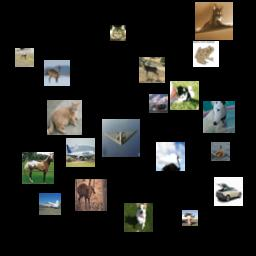airplane: (102, 119, 140, 157), (66, 138, 95, 167), (39, 193, 61, 215), (182, 210, 198, 226)
automobile: (214, 177, 243, 206)
bird: (156, 142, 185, 171), (211, 142, 230, 161)
cat: (195, 2, 233, 40), (47, 100, 82, 135), (110, 25, 126, 41)
deer: (75, 179, 107, 211), (139, 57, 165, 83), (44, 60, 70, 86), (15, 48, 34, 67)
dog: (203, 101, 235, 133), (170, 81, 199, 110), (124, 203, 153, 232)
frog: (193, 41, 219, 67)
ship: (149, 94, 168, 113)
